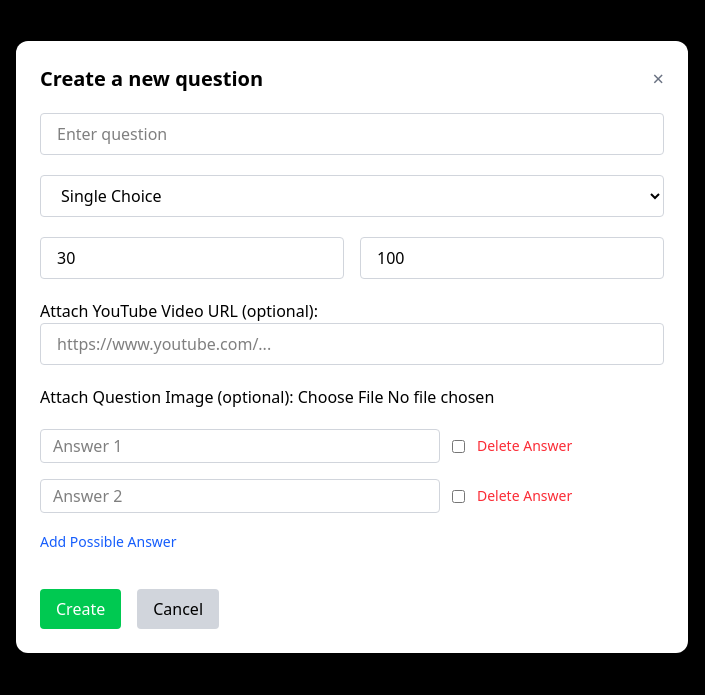
create a new question test › adds a new answer and deletes it
Click the button "Add Possible Answer".
click(108, 542)  # box [40, 532, 176, 552]
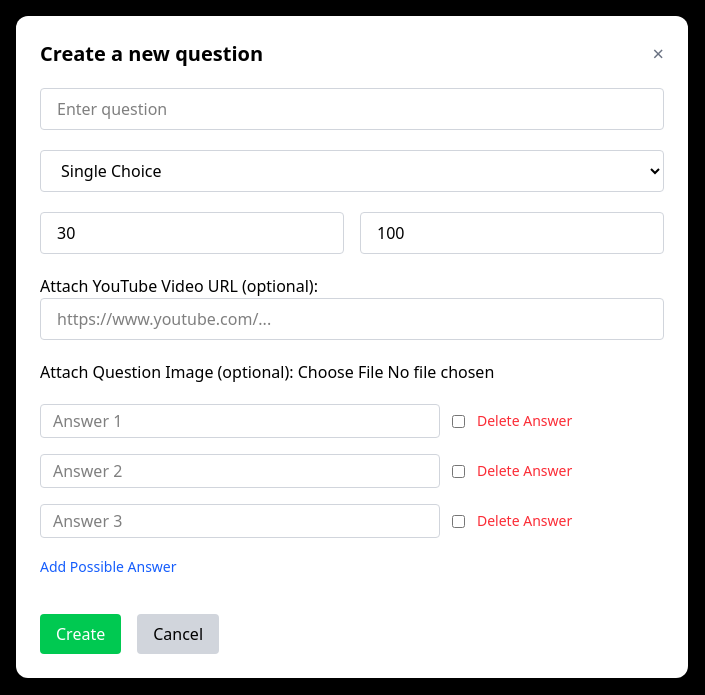
Check: the number of fields with placeholder "Answer 1" is 3, box [40, 404, 440, 438]; [40, 454, 440, 488]; [40, 504, 440, 538]
Click the 3rd button "Delete Answer".
click(525, 521)  # box [477, 511, 572, 531]
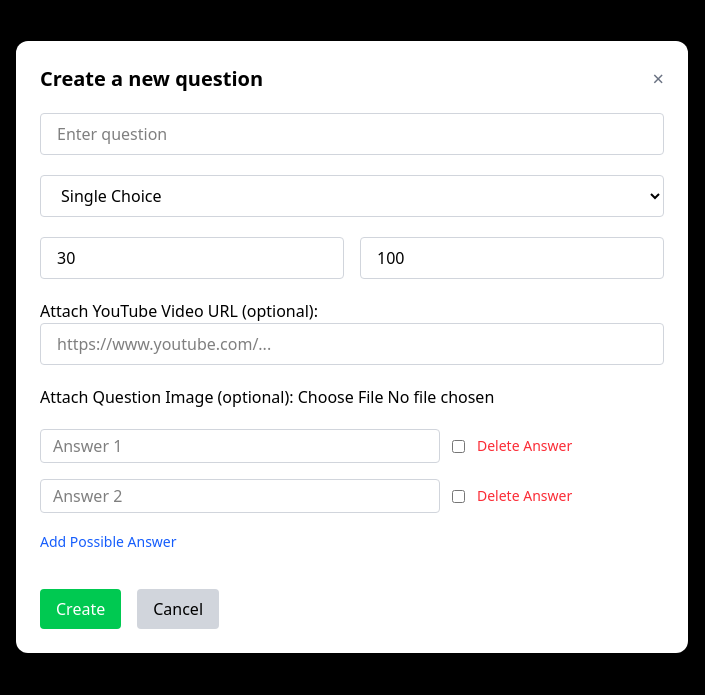
Check: the number of fields with placeholder "Answer 1" is 2, box [40, 429, 440, 463]; [40, 479, 440, 513]
